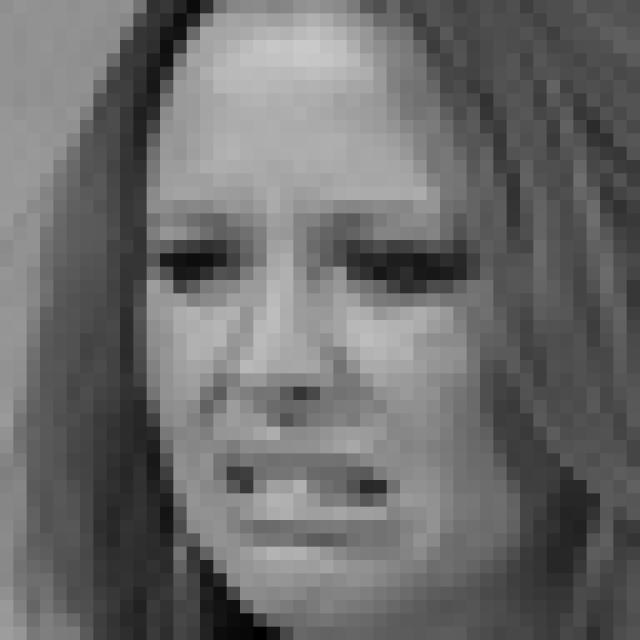disgust: (150, 191, 477, 568)
